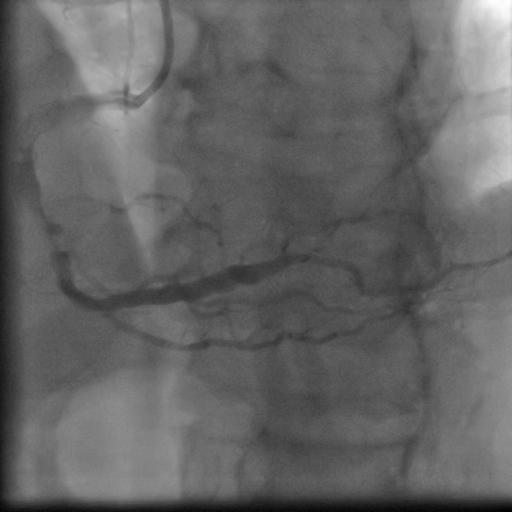Stenosis: (32, 204, 67, 262)
